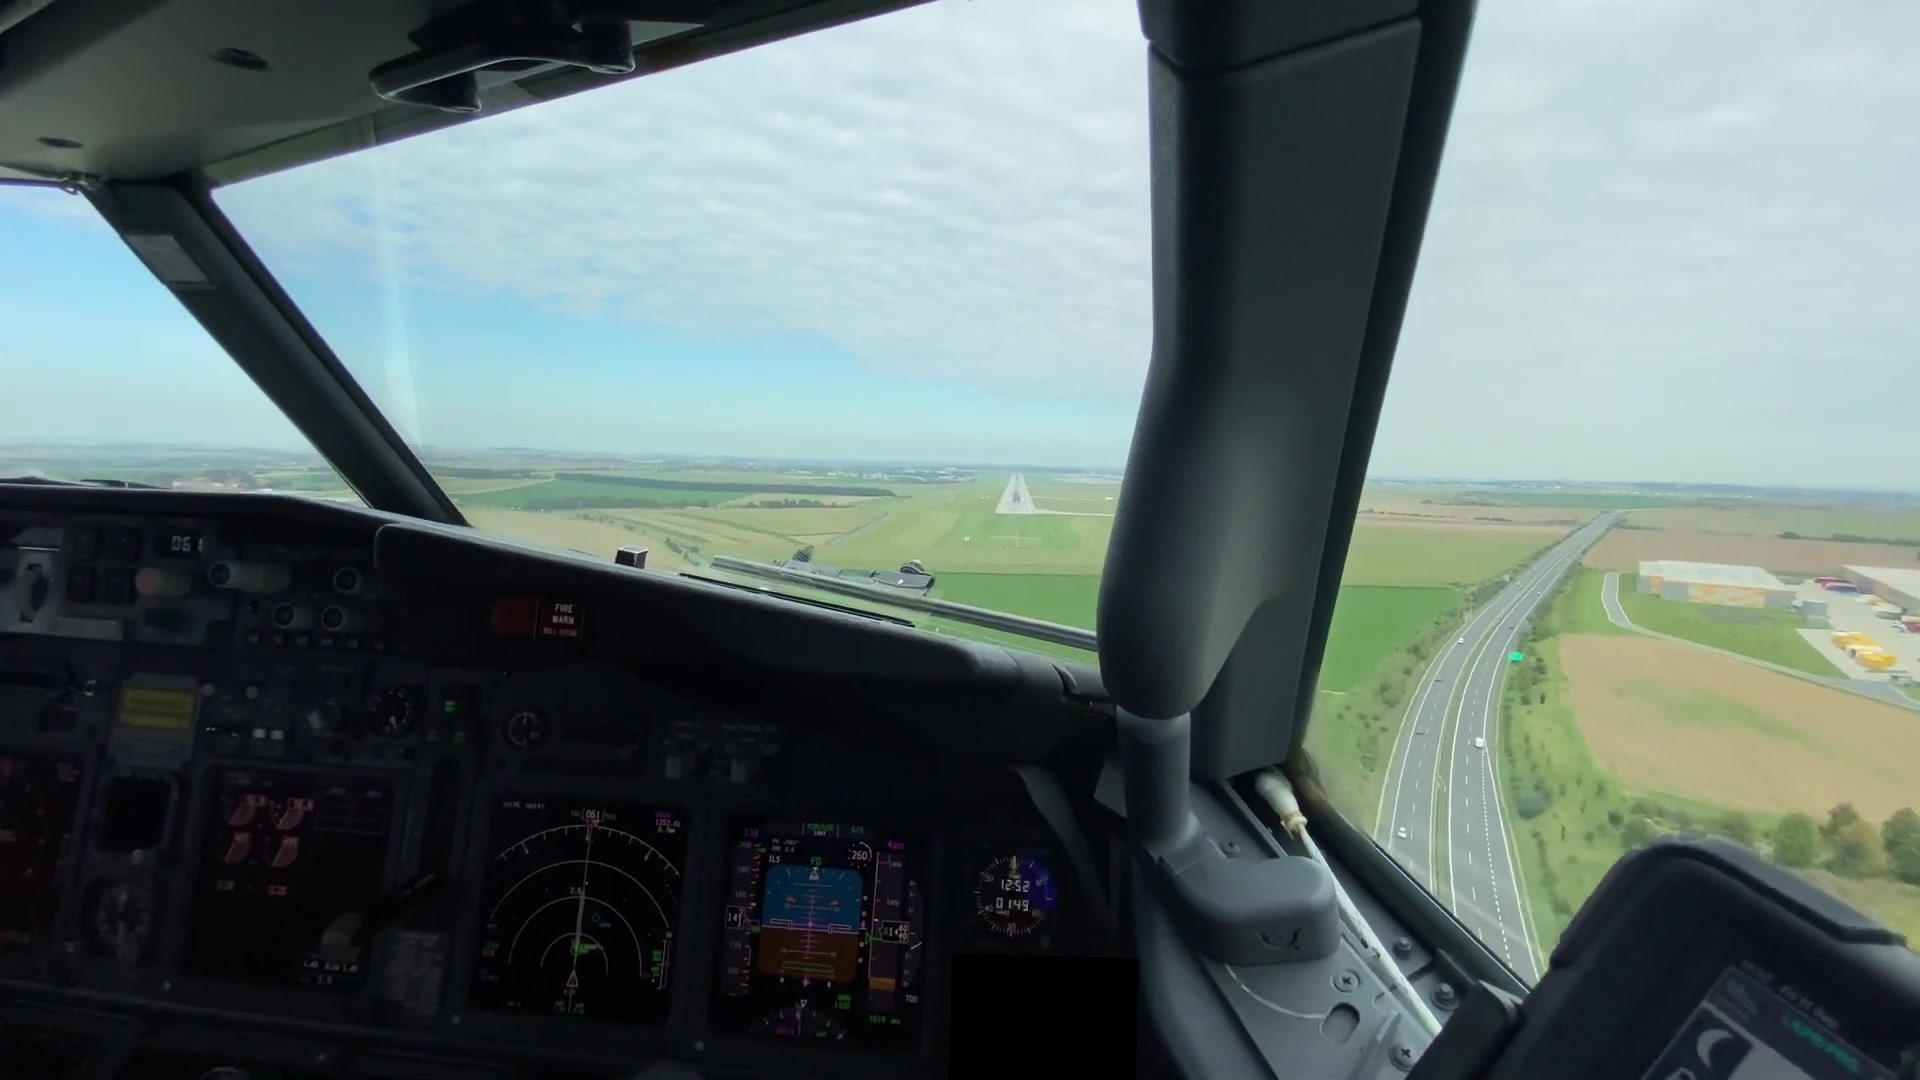runway: (994, 472, 1035, 516)
